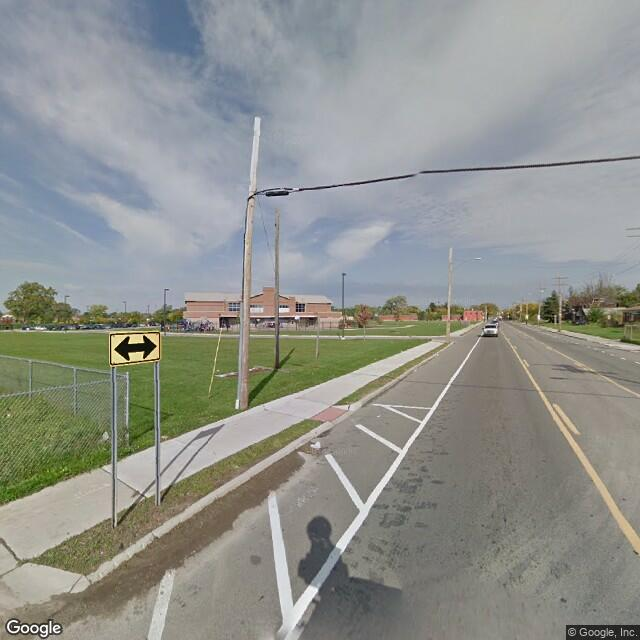litter: (307, 438, 329, 451)
